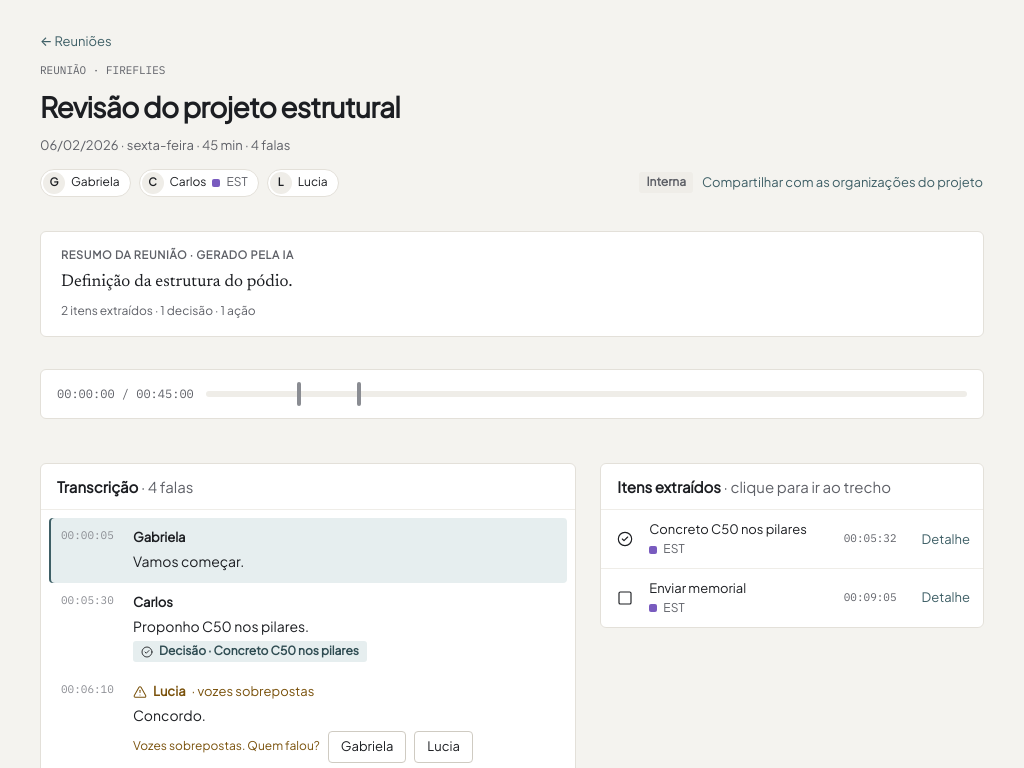
Phase 3c › lets the team pick who spoke in an uncertain turn
Expected: the text "Vozes sobrepostas. Quem falou?" is shown, [133,738,320,755]
Click the button "Gabriela".
click(367, 747)  # box [328,731,406,763]
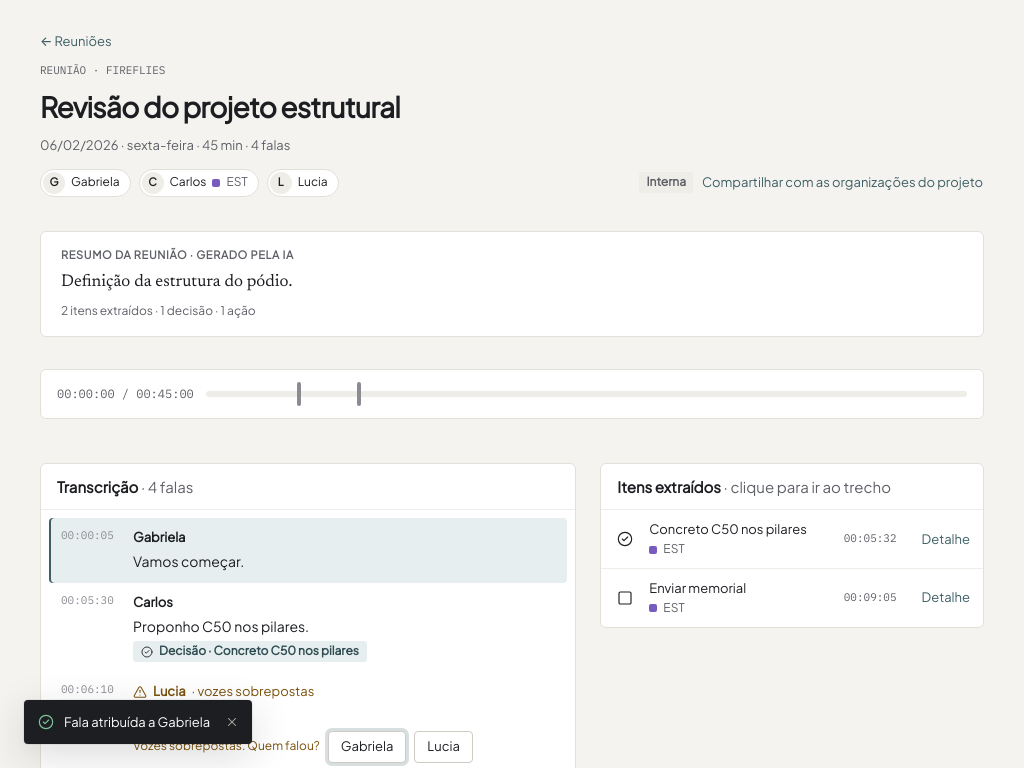
Expected: the text "Fala atribuída a Gabriela" is shown, [64,713,210,731]
